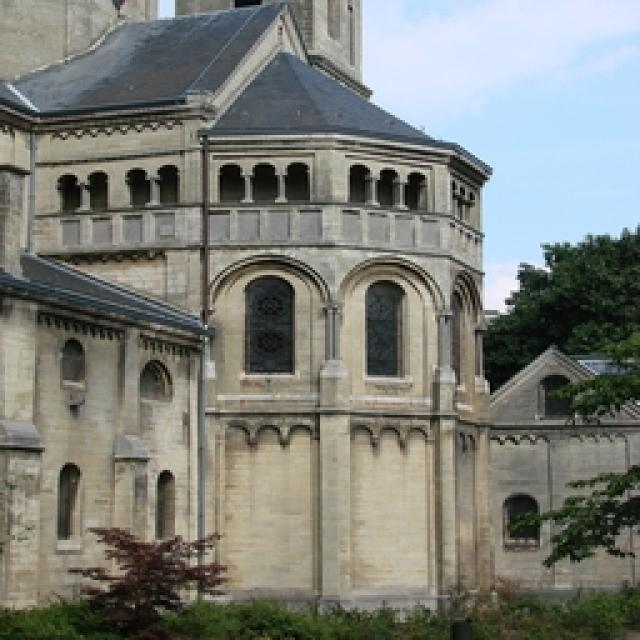Abbey: (1, 1, 639, 639)
